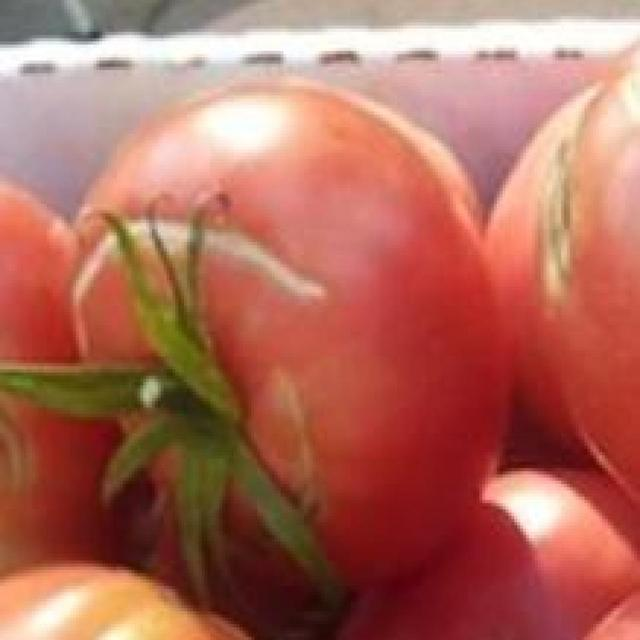Cracking Fruit: (52, 105, 376, 296)
